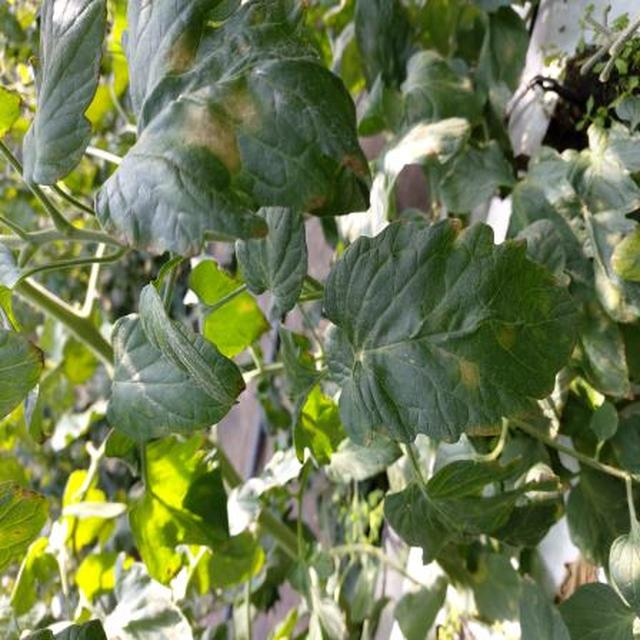Leaf Mold: (331, 185, 640, 473)
